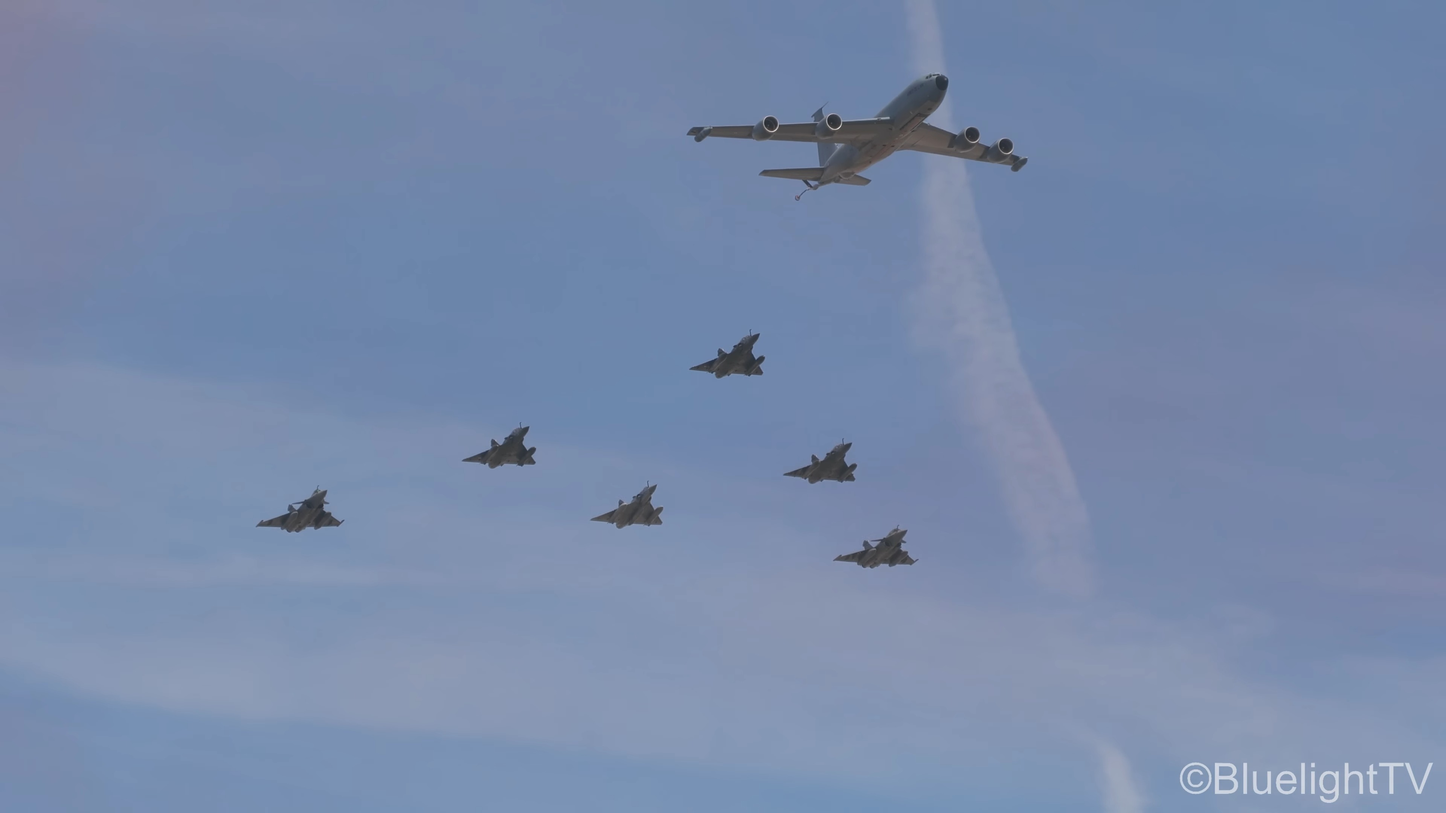not_drone: (689, 59, 1042, 203), (676, 300, 786, 388), (825, 518, 935, 585), (256, 480, 346, 537), (776, 428, 862, 487), (447, 426, 552, 471), (586, 480, 686, 525)
